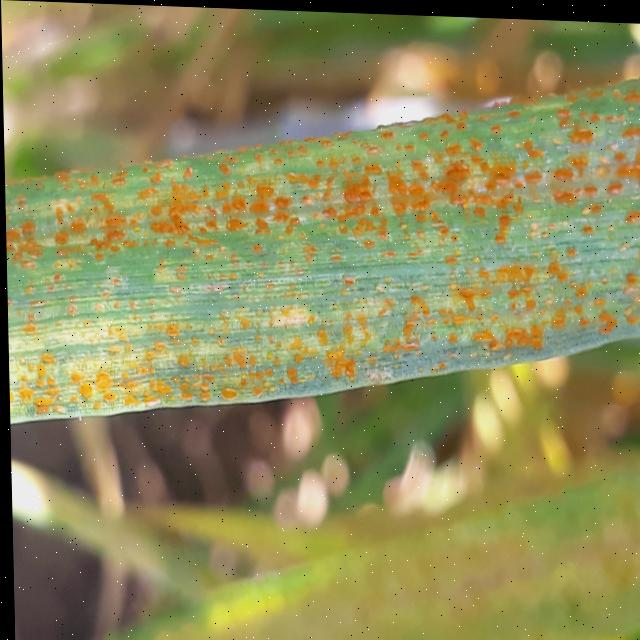orang_rust: (1, 51, 640, 448)
